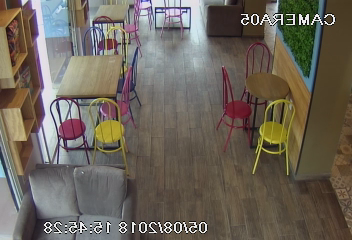libre: (51, 23, 146, 164), (216, 53, 306, 171), (85, 1, 149, 55)
